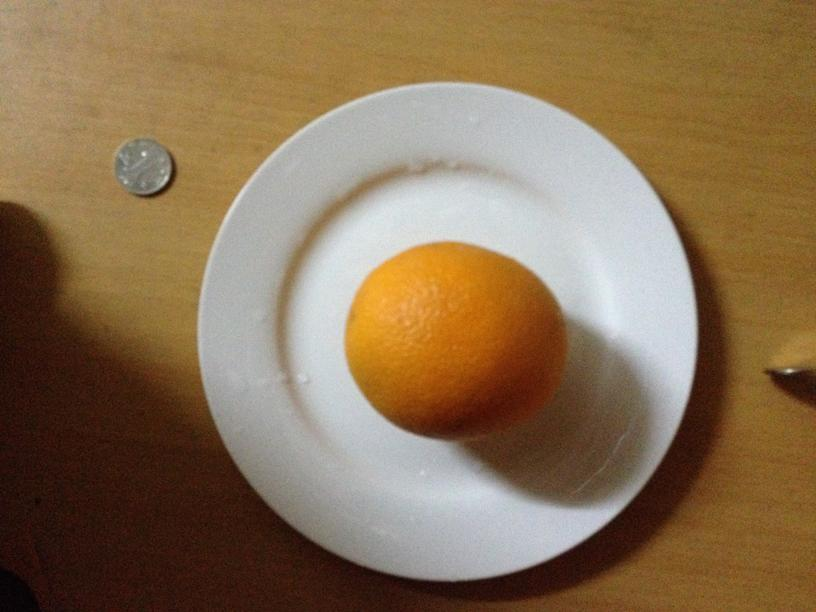coin: (111, 134, 175, 195)
orange: (340, 239, 564, 439)
